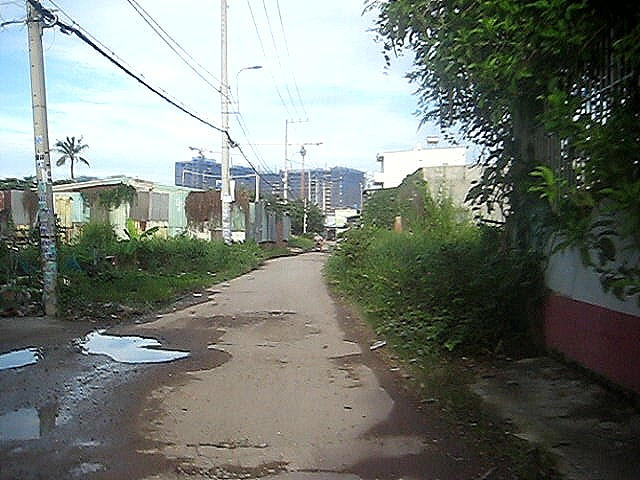hole: (71, 326, 192, 364), (1, 394, 84, 439), (200, 308, 294, 325), (186, 345, 232, 371), (69, 457, 106, 476)
